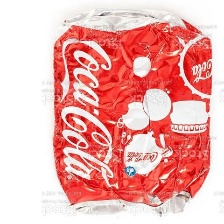can: (47, 5, 217, 219)
